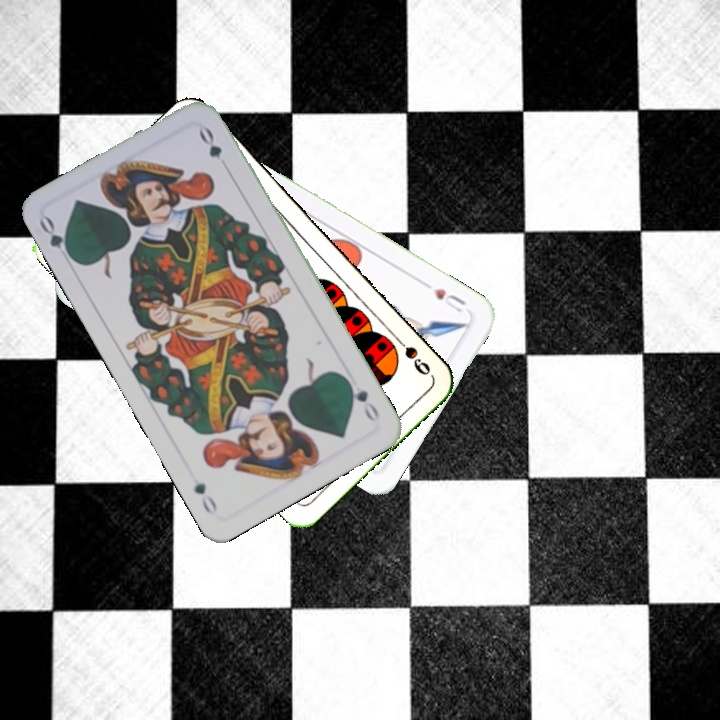GO: (35, 212, 78, 264), (342, 375, 382, 426)
HU: (430, 284, 469, 315)
S9: (389, 331, 433, 378)
